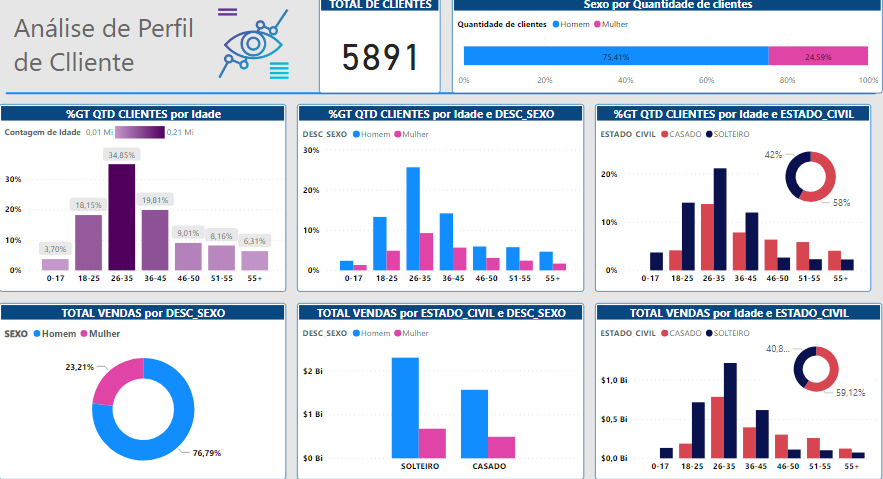

The page's visual inventory and layout, read from the dashboard file:
{"tool":"powerbi","page":{"name":"DASHBOARD","canvas":[1280,720],"ordinal":0},"visuals":[{"type":"textbox","box":[16,0,304,135],"z":0},{"type":"basicShape","box":[0,64,1280,160],"z":1000},{"type":"image","box":[240,16,256,112],"z":2000},{"type":"card","title":"TOTAL DE CLIENTES","fields":{"Values":["_MEDIDAS.QTD CLIENTES"]},"box":[464,0,176,144],"z":3000},{"type":"hundredPercentStackedBarChart","fields":{"Series":["BLACKFRIDAY.DESC_SEXO"],"Y":["CountNonNull(BLACKFRIDAY.DESC_SEXO)"]},"box":[656,0,624,144],"z":4000},{"type":"clusteredColumnChart","fields":{"Category":["BLACKFRIDAY.Idade"],"Y":["_MEDIDAS.QTD CLIENTES"]},"box":[0,160,416,272],"z":5000},{"type":"clusteredColumnChart","fields":{"Category":["BLACKFRIDAY.Idade"],"Y":["_MEDIDAS.QTD CLIENTES"],"Series":["BLACKFRIDAY.DESC_SEXO"]},"box":[432,160,416,272],"z":6000},{"type":"clusteredColumnChart","fields":{"Category":["BLACKFRIDAY.Idade"],"Y":["_MEDIDAS.QTD CLIENTES"],"Series":["BLACKFRIDAY.ESTADO_CIVIL"]},"box":[864,160,400,272],"z":7000},{"type":"donutChart","fields":{"Y":["_MEDIDAS.QTD CLIENTES"],"Series":["BLACKFRIDAY.ESTADO_CIVIL"]},"box":[1104,208,144,112],"z":8000},{"type":"donutChart","fields":{"Category":["BLACKFRIDAY.DESC_SEXO"],"Y":["_MEDIDAS.TOTAL VENDAS"]},"box":[0,448,416,256],"z":9000},{"type":"clusteredColumnChart","fields":{"Category":["BLACKFRIDAY.Idade"],"Y":["_MEDIDAS.TOTAL VENDAS"],"Series":["BLACKFRIDAY.ESTADO_CIVIL"]},"box":[864,448,416,256],"z":10000},{"type":"clusteredColumnChart","fields":{"Y":["_MEDIDAS.TOTAL VENDAS"],"Series":["BLACKFRIDAY.DESC_SEXO"],"Category":["BLACKFRIDAY.ESTADO_CIVIL"]},"box":[432,448,416,256],"z":11000},{"type":"donutChart","fields":{"Series":["BLACKFRIDAY.ESTADO_CIVIL"],"Y":["_MEDIDAS.TOTAL VENDAS"]},"box":[1104,496,160,96],"z":12000}]}

Visuals, with their boxes on the page's 1280x720 design canvas (x1, y1, x2, y2). These are canvas units, not pixel positions in the 883x479 screenshot, which may show the page scaled, cropped or inside an application window:
textbox: 16, 0, 320, 135
basicShape: 0, 64, 1280, 224
image: 240, 16, 496, 128
"TOTAL DE CLIENTES" card: 464, 0, 640, 144
hundredPercentStackedBarChart - BLACKFRIDAY.DESC_SEXO x CountNonNull(BLACKFRIDAY.DESC_SEXO): 656, 0, 1280, 144
clusteredColumnChart - BLACKFRIDAY.Idade x _MEDIDAS.QTD CLIENTES: 0, 160, 416, 432
clusteredColumnChart - BLACKFRIDAY.Idade x _MEDIDAS.QTD CLIENTES: 432, 160, 848, 432
clusteredColumnChart - BLACKFRIDAY.Idade x _MEDIDAS.QTD CLIENTES: 864, 160, 1264, 432
donutChart - _MEDIDAS.QTD CLIENTES x BLACKFRIDAY.ESTADO_CIVIL: 1104, 208, 1248, 320
donutChart - BLACKFRIDAY.DESC_SEXO x _MEDIDAS.TOTAL VENDAS: 0, 448, 416, 704
clusteredColumnChart - BLACKFRIDAY.Idade x _MEDIDAS.TOTAL VENDAS: 864, 448, 1280, 704
clusteredColumnChart - _MEDIDAS.TOTAL VENDAS x BLACKFRIDAY.DESC_SEXO: 432, 448, 848, 704
donutChart - BLACKFRIDAY.ESTADO_CIVIL x _MEDIDAS.TOTAL VENDAS: 1104, 496, 1264, 592
